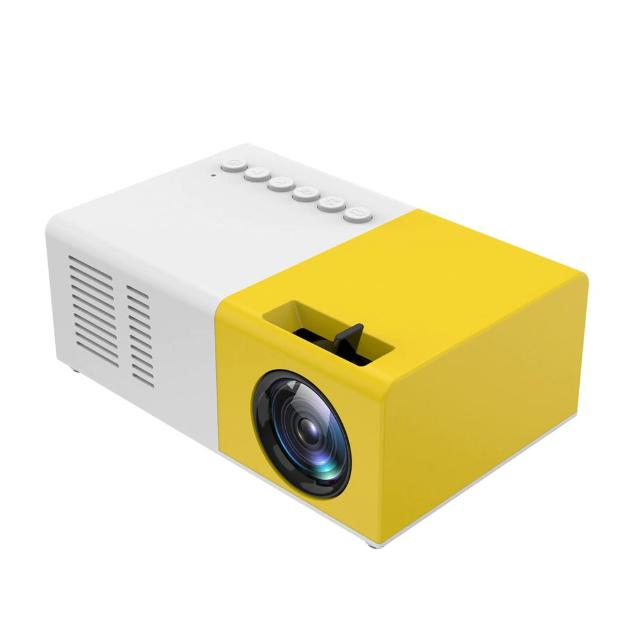Projector: (33, 126, 605, 558)
